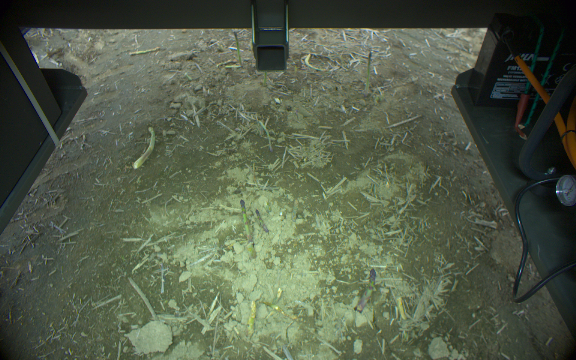aspa: (133, 126, 156, 170), (357, 267, 376, 313), (238, 198, 252, 242), (128, 45, 162, 57), (232, 31, 243, 68), (247, 300, 258, 336), (365, 50, 373, 96), (254, 208, 268, 232), (395, 295, 407, 322), (261, 70, 268, 86)
